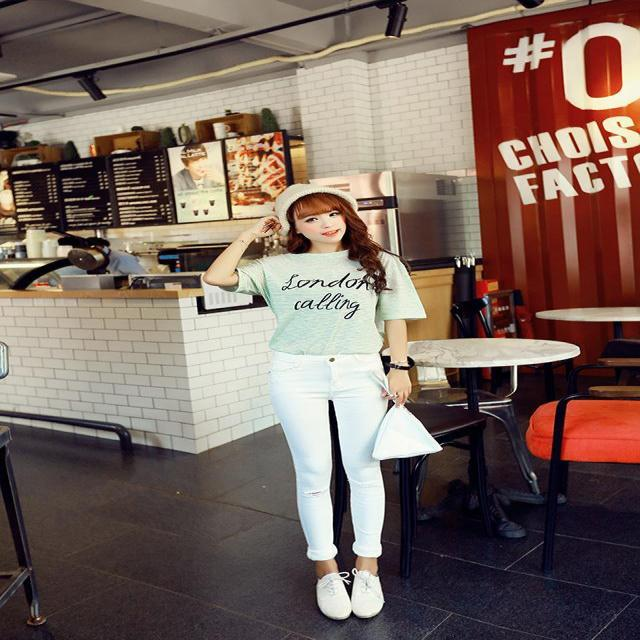short sleeve top: (236, 244, 427, 355)
trousers: (270, 355, 394, 559)
